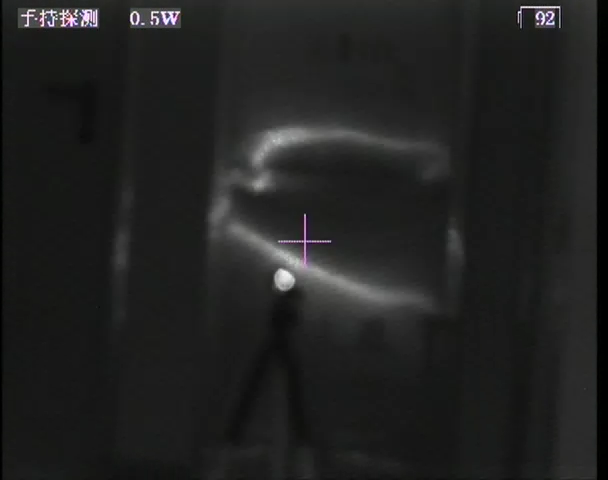my: (271, 265, 298, 293)
